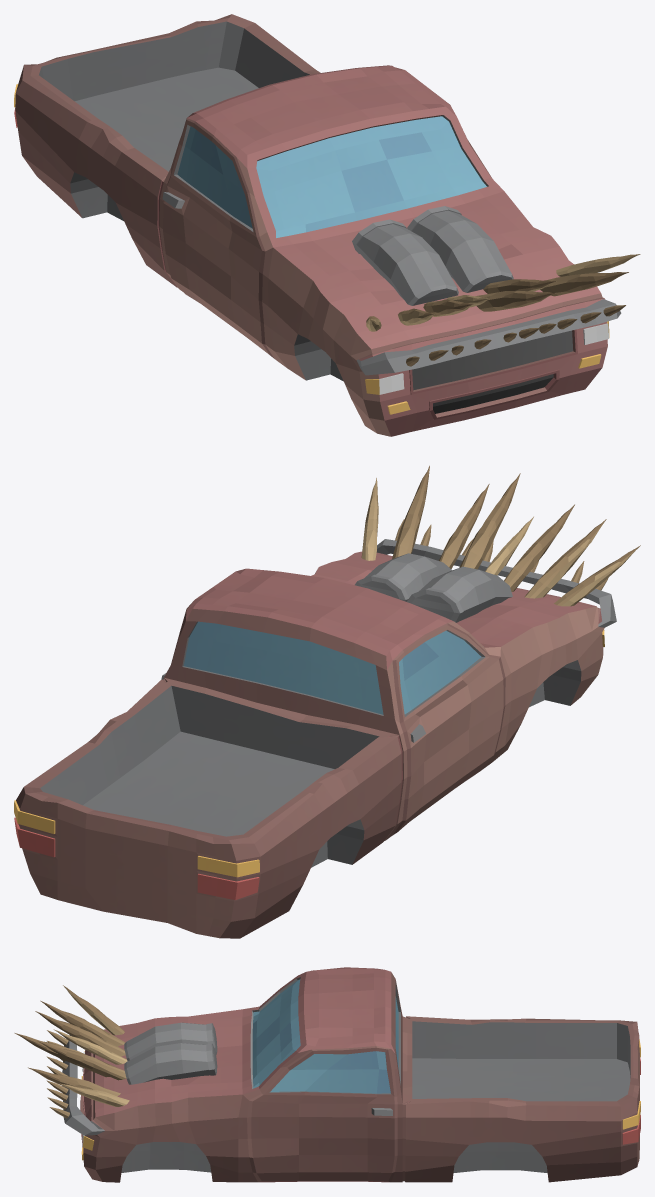
The model's file is car.glb.
3 views of the same model, one above another, from view 1: azimuth 30°, elevation 25°; view 2: azimuth 150°, elevation 25°; view 3: azimuth 270°, elevation 25° (orthographic). The views are drawn at different scales.
Parts seen in each view (by area): view 1: car, engine_part_1, car_spikes, engine_part_2, small_car_spikes; view 2: car, car_spikes, engine_part_1, engine_part_2; view 3: car, car_spikes, engine_part_2, engine_part_1, small_car_spikes.
Part boxes in pixels (x1,y1,x2,y2): car: (14,14,621,436); engine_part_1: (352,219,458,305); car_spikes: (366,254,640,331); engine_part_2: (407,206,513,292); small_car_spikes: (406,305,625,366); car: (14,539,616,938); car_spikes: (361,465,640,606); engine_part_1: (407,566,512,622); engine_part_2: (355,553,451,601); car: (62,967,640,1182); car_spikes: (14,985,129,1106); engine_part_2: (124,1043,217,1084); engine_part_1: (124,1022,217,1060); small_car_spikes: (46,1030,69,1118).
Size of the model in its own units: 2.15 by 1.48 by 5.74.
1 material, 1 textured.
